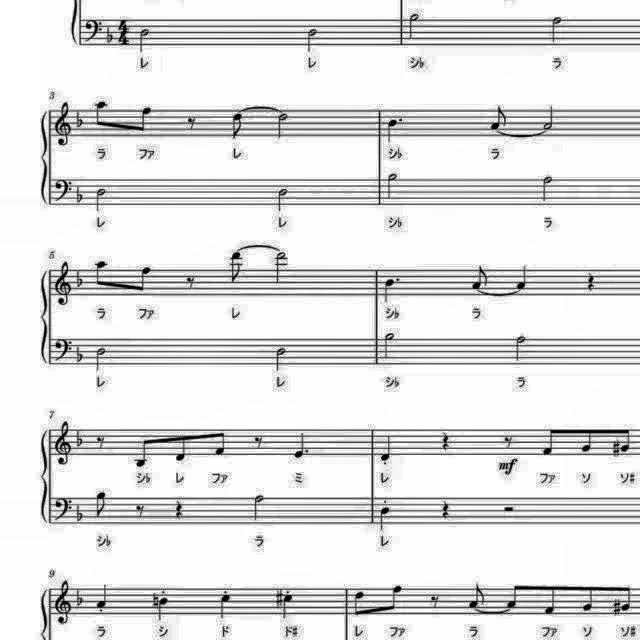Bass-clef: (52, 495, 76, 525), (82, 16, 106, 46), (52, 336, 76, 364), (52, 176, 76, 204)
Bemol: (73, 264, 87, 292), (72, 108, 86, 132), (74, 586, 86, 610), (74, 427, 86, 449), (74, 501, 86, 523), (74, 345, 86, 365), (74, 183, 86, 203), (104, 27, 116, 46)
Diez: (148, 590, 160, 618)
Eighth-note: (132, 102, 156, 138), (132, 433, 156, 469), (132, 261, 156, 295), (540, 422, 562, 458), (228, 107, 250, 141), (486, 101, 510, 131), (467, 262, 491, 292), (464, 581, 488, 611), (174, 428, 194, 464), (90, 256, 110, 292), (90, 98, 110, 134), (542, 580, 562, 616), (228, 250, 248, 286), (210, 426, 230, 458), (384, 582, 404, 614), (90, 489, 110, 521), (578, 580, 598, 612), (502, 578, 522, 610), (618, 582, 636, 616), (576, 425, 596, 455), (351, 588, 369, 620), (618, 424, 634, 456)
Eighth-rest: (183, 112, 201, 134), (181, 272, 199, 292), (94, 432, 110, 453), (426, 590, 442, 610), (132, 502, 148, 522), (250, 432, 266, 452), (500, 431, 514, 451)
Half-note: (536, 170, 558, 206), (272, 251, 292, 289), (512, 331, 532, 365), (548, 11, 568, 45), (273, 110, 293, 142), (273, 184, 293, 216), (406, 10, 426, 42), (383, 168, 402, 200), (272, 343, 292, 373), (251, 490, 269, 522), (380, 329, 398, 361), (304, 23, 322, 54), (541, 103, 559, 133), (93, 185, 111, 215), (136, 25, 154, 55), (94, 343, 110, 373)
Half-rest: (498, 501, 518, 515)
Quarter-dot: (378, 274, 402, 306), (382, 115, 406, 147), (292, 430, 314, 462)
Quarter-note: (378, 432, 397, 466), (278, 588, 298, 620), (95, 582, 113, 614), (215, 588, 233, 620), (514, 264, 534, 292), (376, 504, 394, 532), (155, 596, 173, 624)
Quarter-rest: (438, 495, 456, 521), (171, 497, 189, 523), (584, 269, 600, 295), (438, 429, 454, 455)
Treble-clef: (52, 258, 76, 310), (52, 99, 76, 150), (52, 418, 76, 468), (53, 578, 75, 630)
